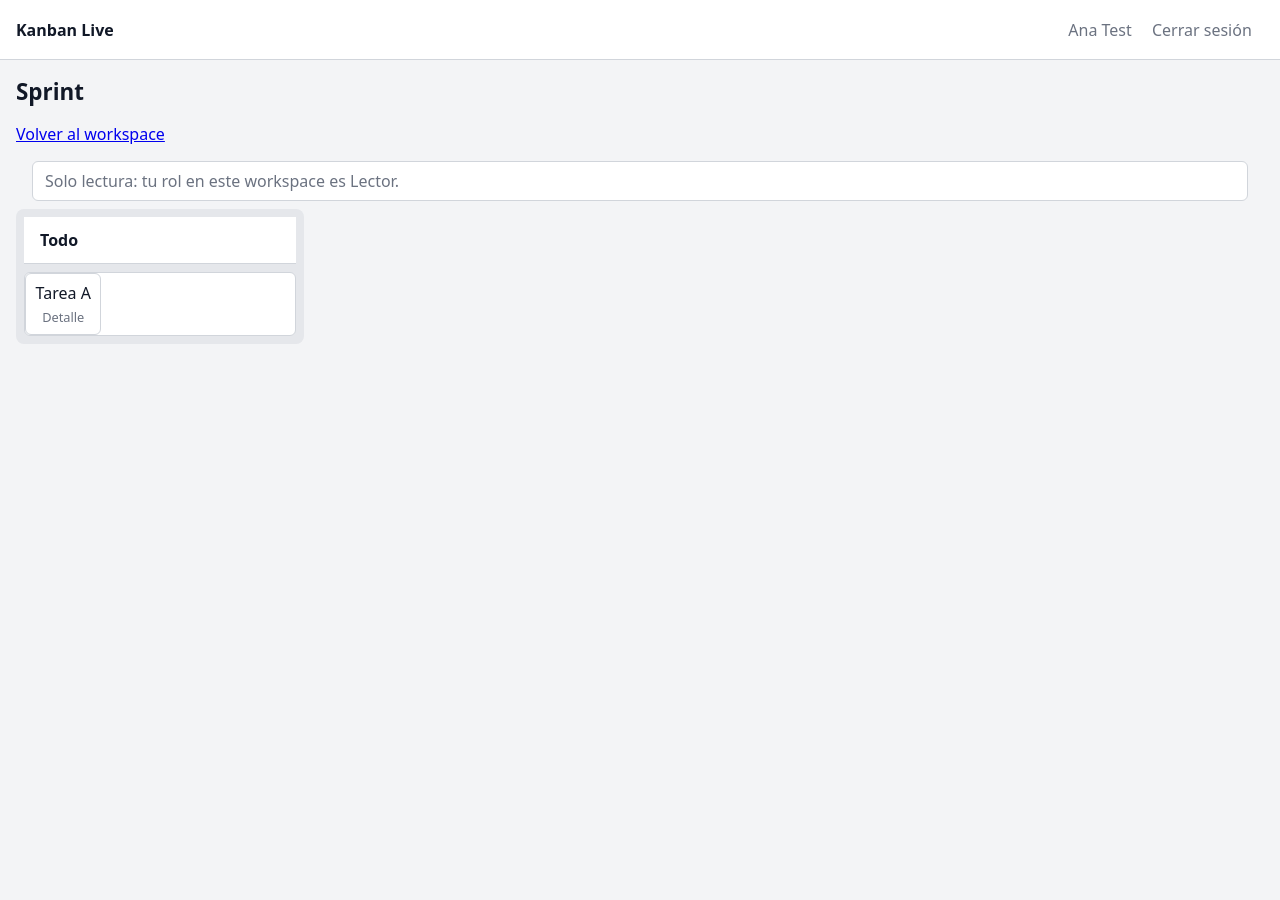
Test: UI de tablero segun rol (F2.6) › VIEWER puede abrir una tarjeta pero solo para leerla
This screenshot has width=1280, height=900.
Click the button "Tarea A Detalle". click: (63, 304)
box: [25,273,102,335]
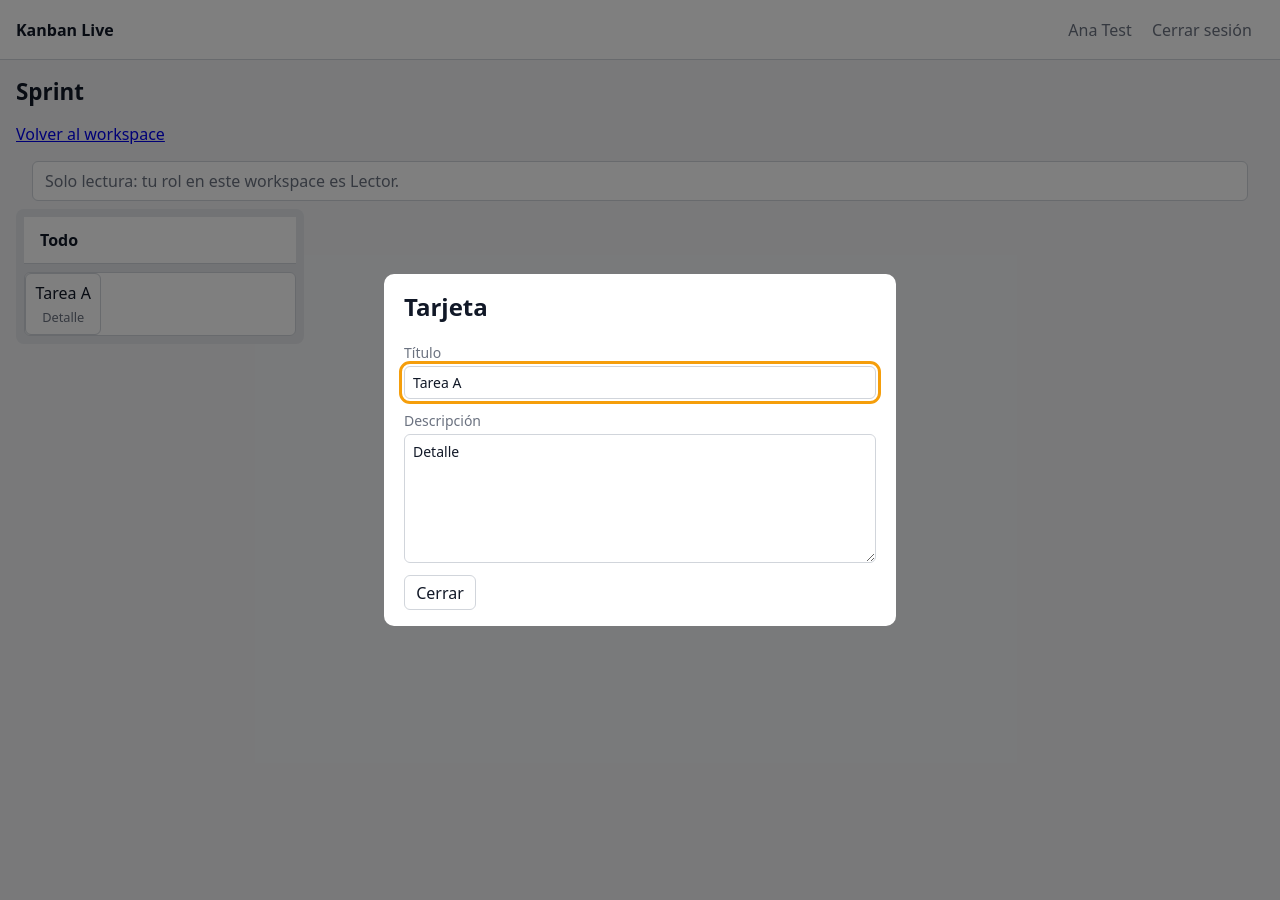
Expected: the dialog shows "Tarjeta", [404,290,488,323]
Click the button "Cerrar". click: (440, 593)
box: [404,575,476,610]
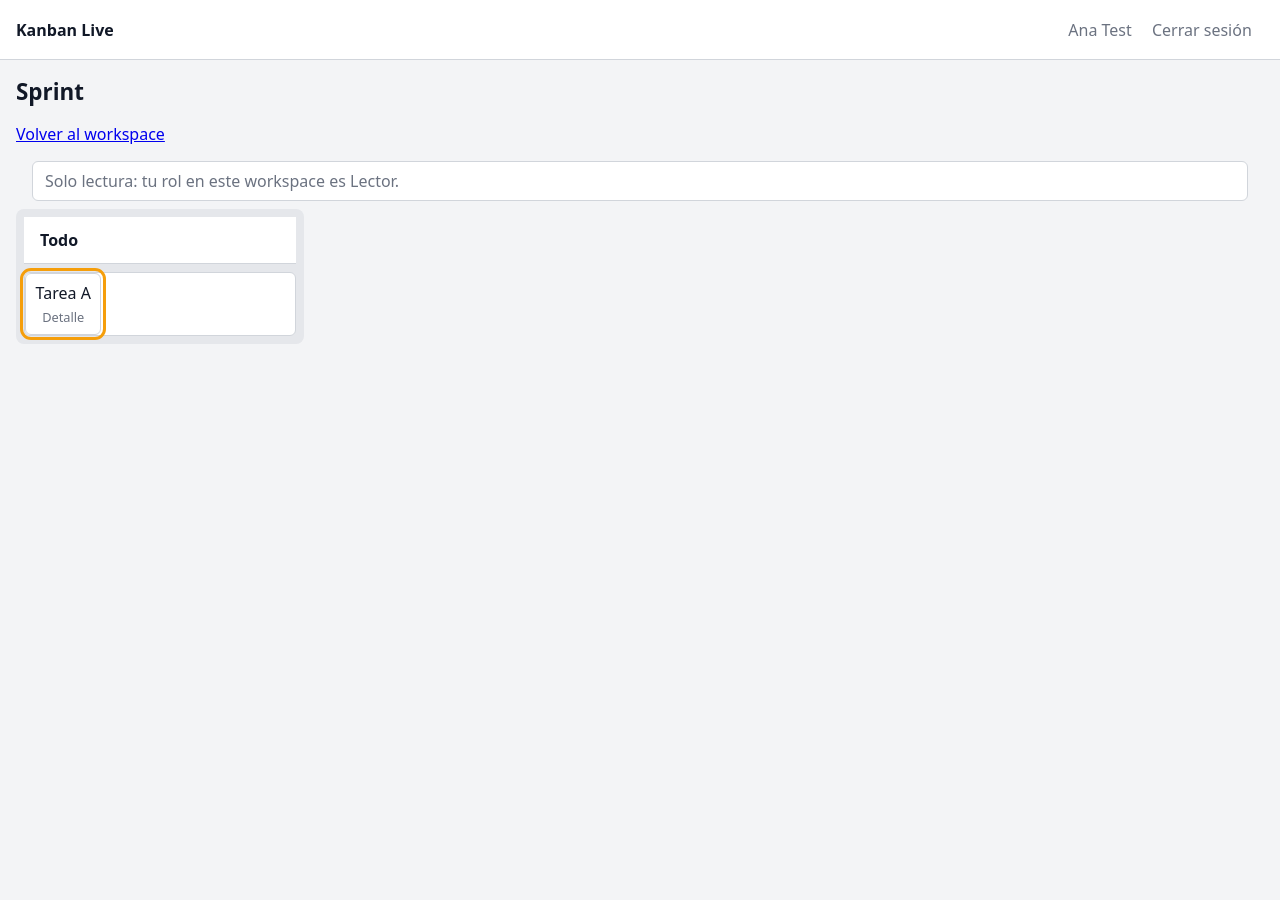
Expected: the dialog is gone
